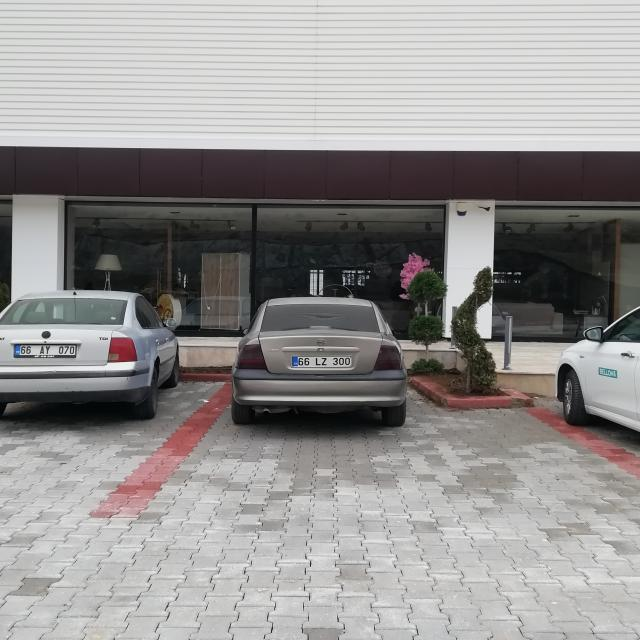license_plate: (292, 356, 351, 367)
